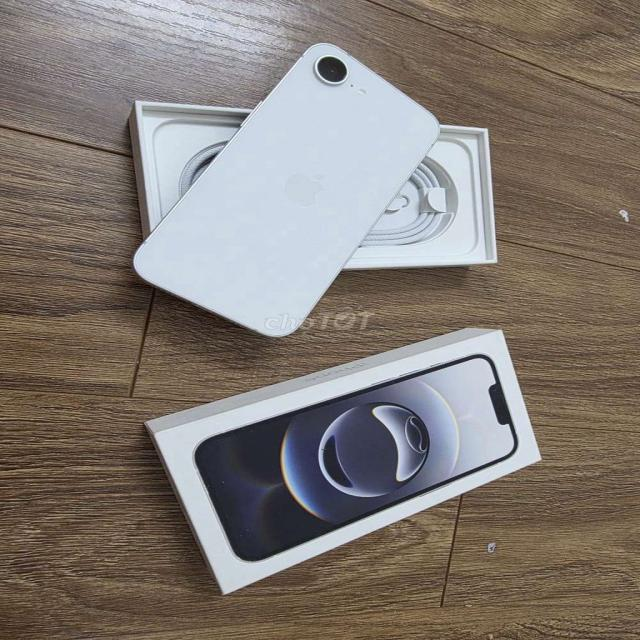gen_16: (134, 44, 438, 336)
